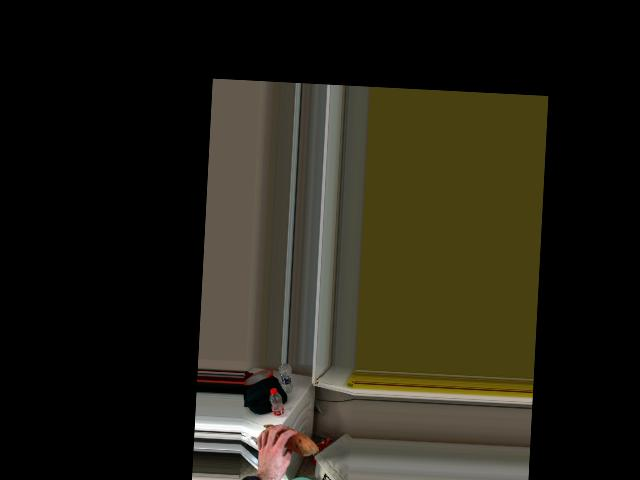sweet_potato: (260, 424, 314, 452)
